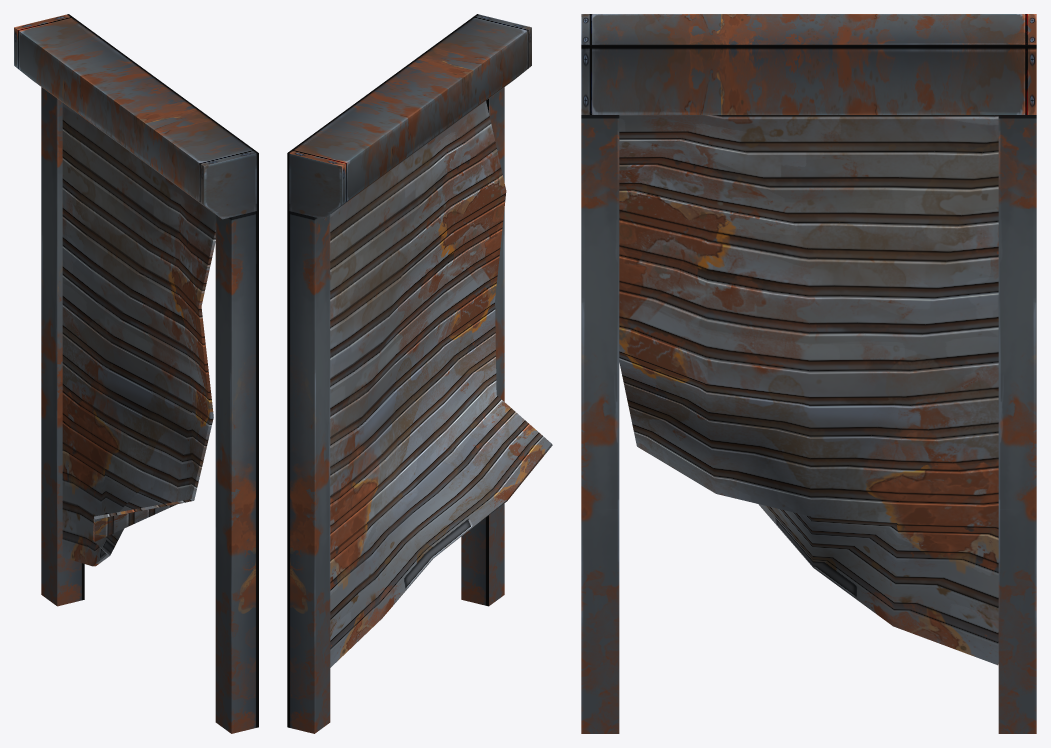
The model's file is rollerShutter02_2m_B.fbx.
3 renders of one model, left to right at view 1: azimuth 30°, elevation 25°; view 2: azimuth 150°, elevation 25°; view 3: azimuth 270°, elevation 25°, orthographic. The views are drawn at different scales.
Visible parts, largest first — view 1: rollerShutter02_2m_B; view 2: rollerShutter02_2m_B; view 3: rollerShutter02_2m_B.
Boxes of the visible parts, x1=… form: rollerShutter02_2m_B: x1=14, y1=14, x2=258, y2=733; rollerShutter02_2m_B: x1=287, y1=14, x2=552, y2=733; rollerShutter02_2m_B: x1=581, y1=14, x2=1036, y2=733.
Bounding box in the file's own units: 65.5 × 300 × 180.
